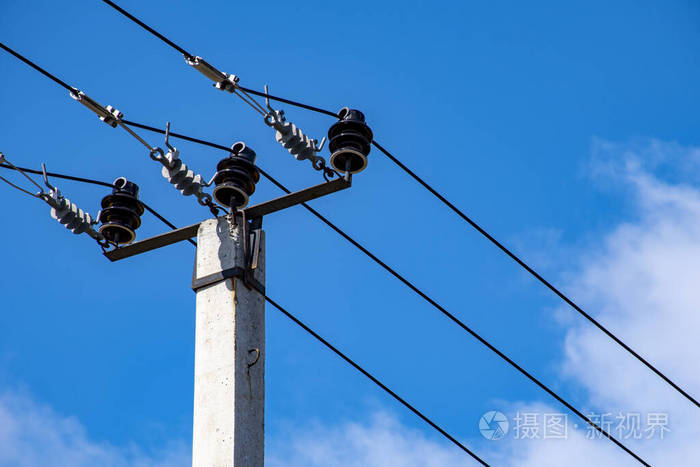insulator: (324, 119, 374, 174), (210, 156, 264, 206), (98, 192, 145, 242), (49, 196, 92, 237), (159, 159, 200, 198), (276, 120, 315, 160)
